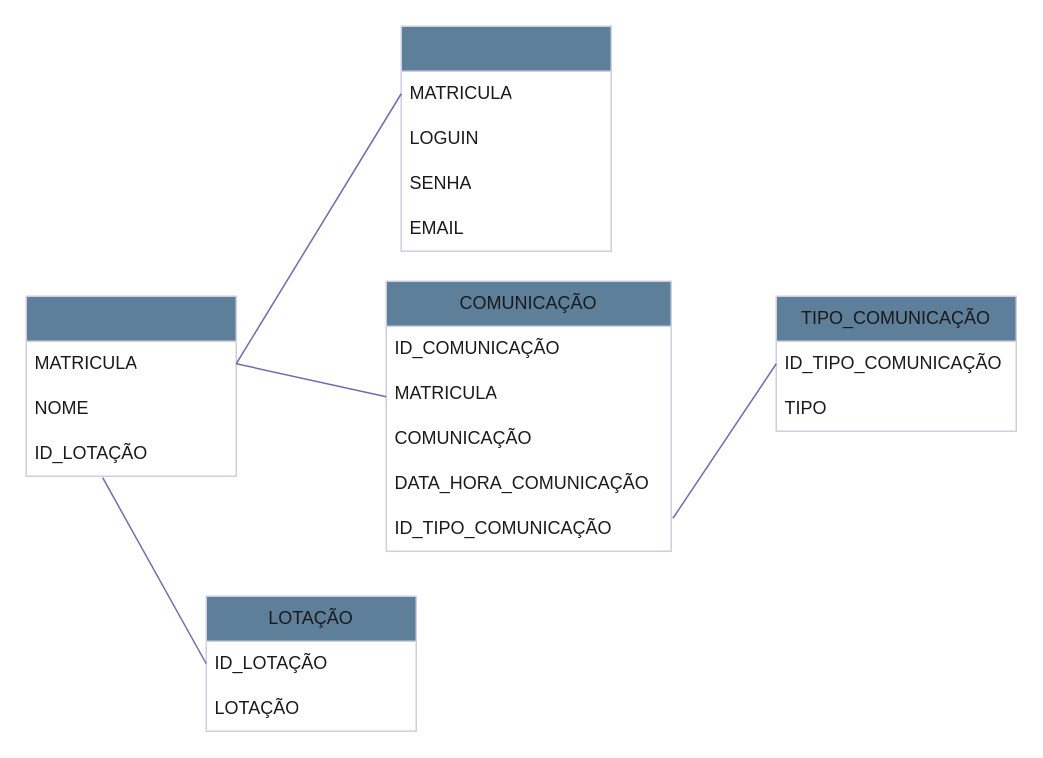
Some shapes in this 1043 by 758 pixel diagram are drawn without their labels. The box of each missing label's shape, as (x1, y1, x2, y2) in pixels:
COLABORADOR: (25, 295, 236, 476)
USUARIO: (400, 25, 611, 251)
